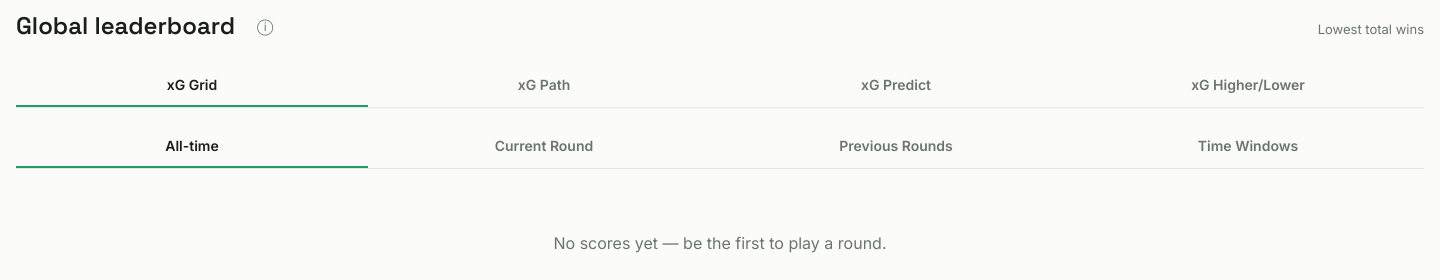
Scenario: LiveLeaderboard › REQ407: switching to "Current Round" fetches the active-round endpoint, not the all-time one
Expected: the text "No scores yet — be the first to play a round." is shown, [554,233,886,253]
Click the tab "Current Round".
click(544, 146)  # box [368,124,720,168]
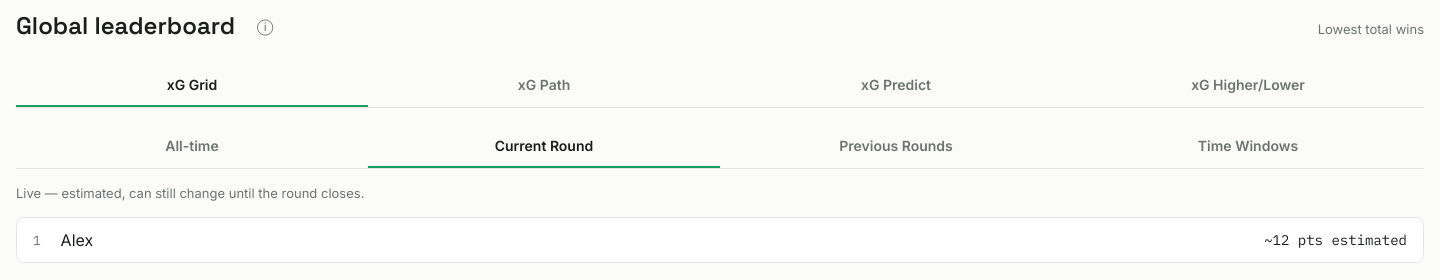
Result: the text "Alex" is shown at [61,230,93,250]
